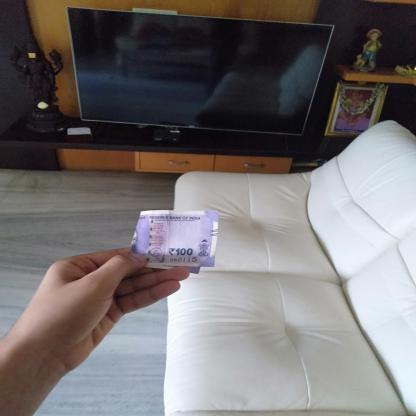New100Front: (130, 212, 217, 268)
